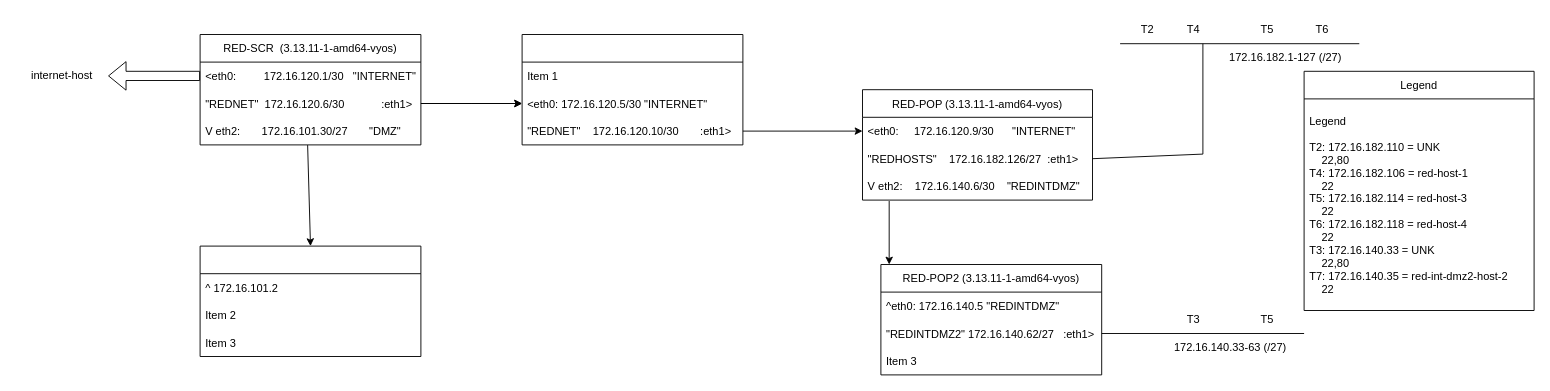
Some shapes in this 1550 by 391 pixel diagram are drawn without their labels. Here are the shapes that lost their labels. From the top down, the box of each, then its label:
(521, 34, 743, 145): RED-IPS (3.13.11-1-amd64-vyos)
(199, 245, 421, 356): red-dmz-host-1
